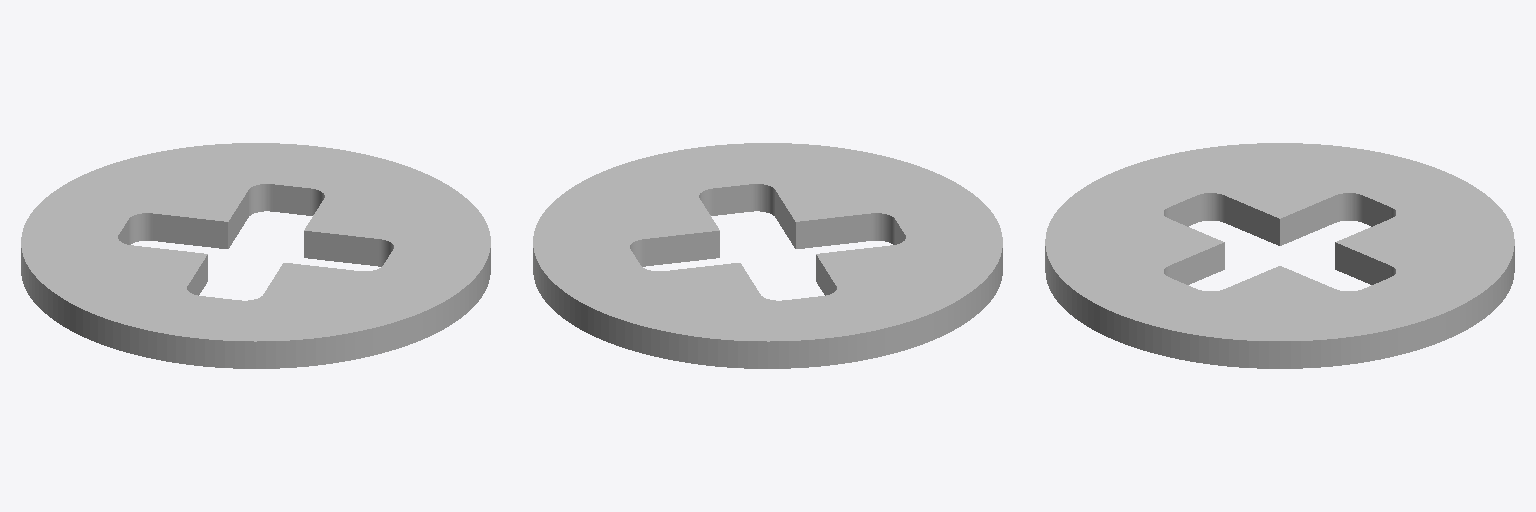
Rendered from parking2.obj.
3 views of the same model, side by side, from view 1: azimuth 30°, elevation 25°; view 2: azimuth 150°, elevation 25°; view 3: azimuth 270°, elevation 25° (orthographic).
Visible parts, largest first — view 1: Curve_Curve.001; view 2: Curve_Curve.001; view 3: Curve_Curve.001.
Part boxes in pixels (x1,y1,x2,y2): Curve_Curve.001: (21, 143, 490, 368); Curve_Curve.001: (533, 143, 1002, 368); Curve_Curve.001: (1045, 143, 1514, 368).
Size of the model in its own units: 7.43 by 0.48 by 7.42.